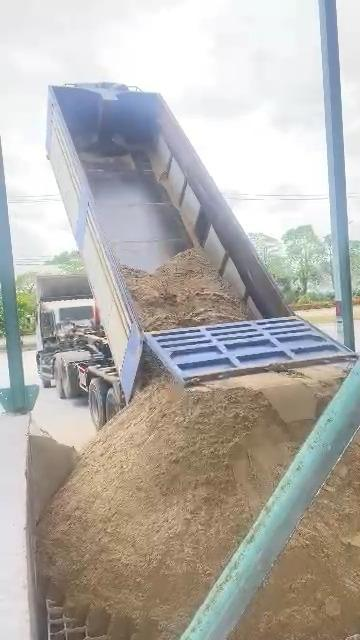sand: (39, 348, 312, 639), (234, 442, 358, 639), (123, 249, 249, 330), (206, 363, 344, 424), (30, 434, 78, 522)
